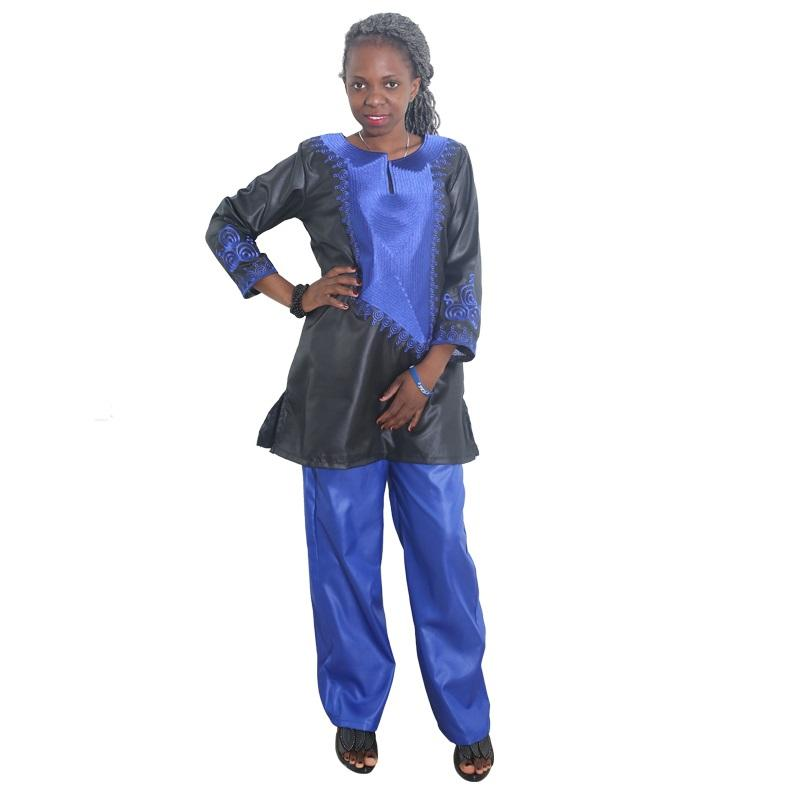feet: (302, 657, 510, 780)
